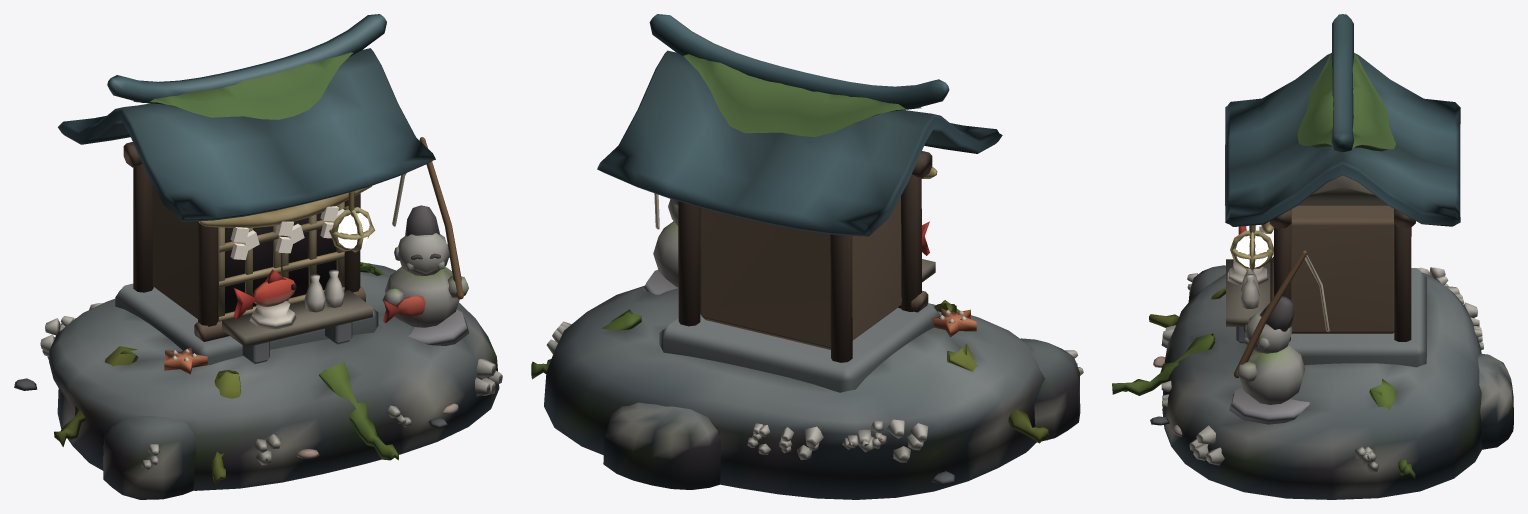
The model's file is dg-tidepool-umiHokora.glb.
3 views of the same model, side by side, from view 1: azimuth 30°, elevation 25°; view 2: azimuth 150°, elevation 25°; view 3: azimuth 270°, elevation 25° (orthographic). The views are drawn at different scales.
Visible parts, largest first — view 1: body, cloth, glow; view 2: body; view 3: body, glow.
Boxes of the visible parts, x1=… form: body: x1=14, y1=14, x2=502, y2=499; cloth: x1=230, y1=206, x2=344, y2=259; glow: x1=338, y1=213, x2=369, y2=248; body: x1=531, y1=14, x2=1083, y2=499; body: x1=1112, y1=14, x2=1513, y2=499; glow: x1=1236, y1=235, x2=1268, y2=267.
Size of the model in its own units: 2.3 by 1.8 by 2.
